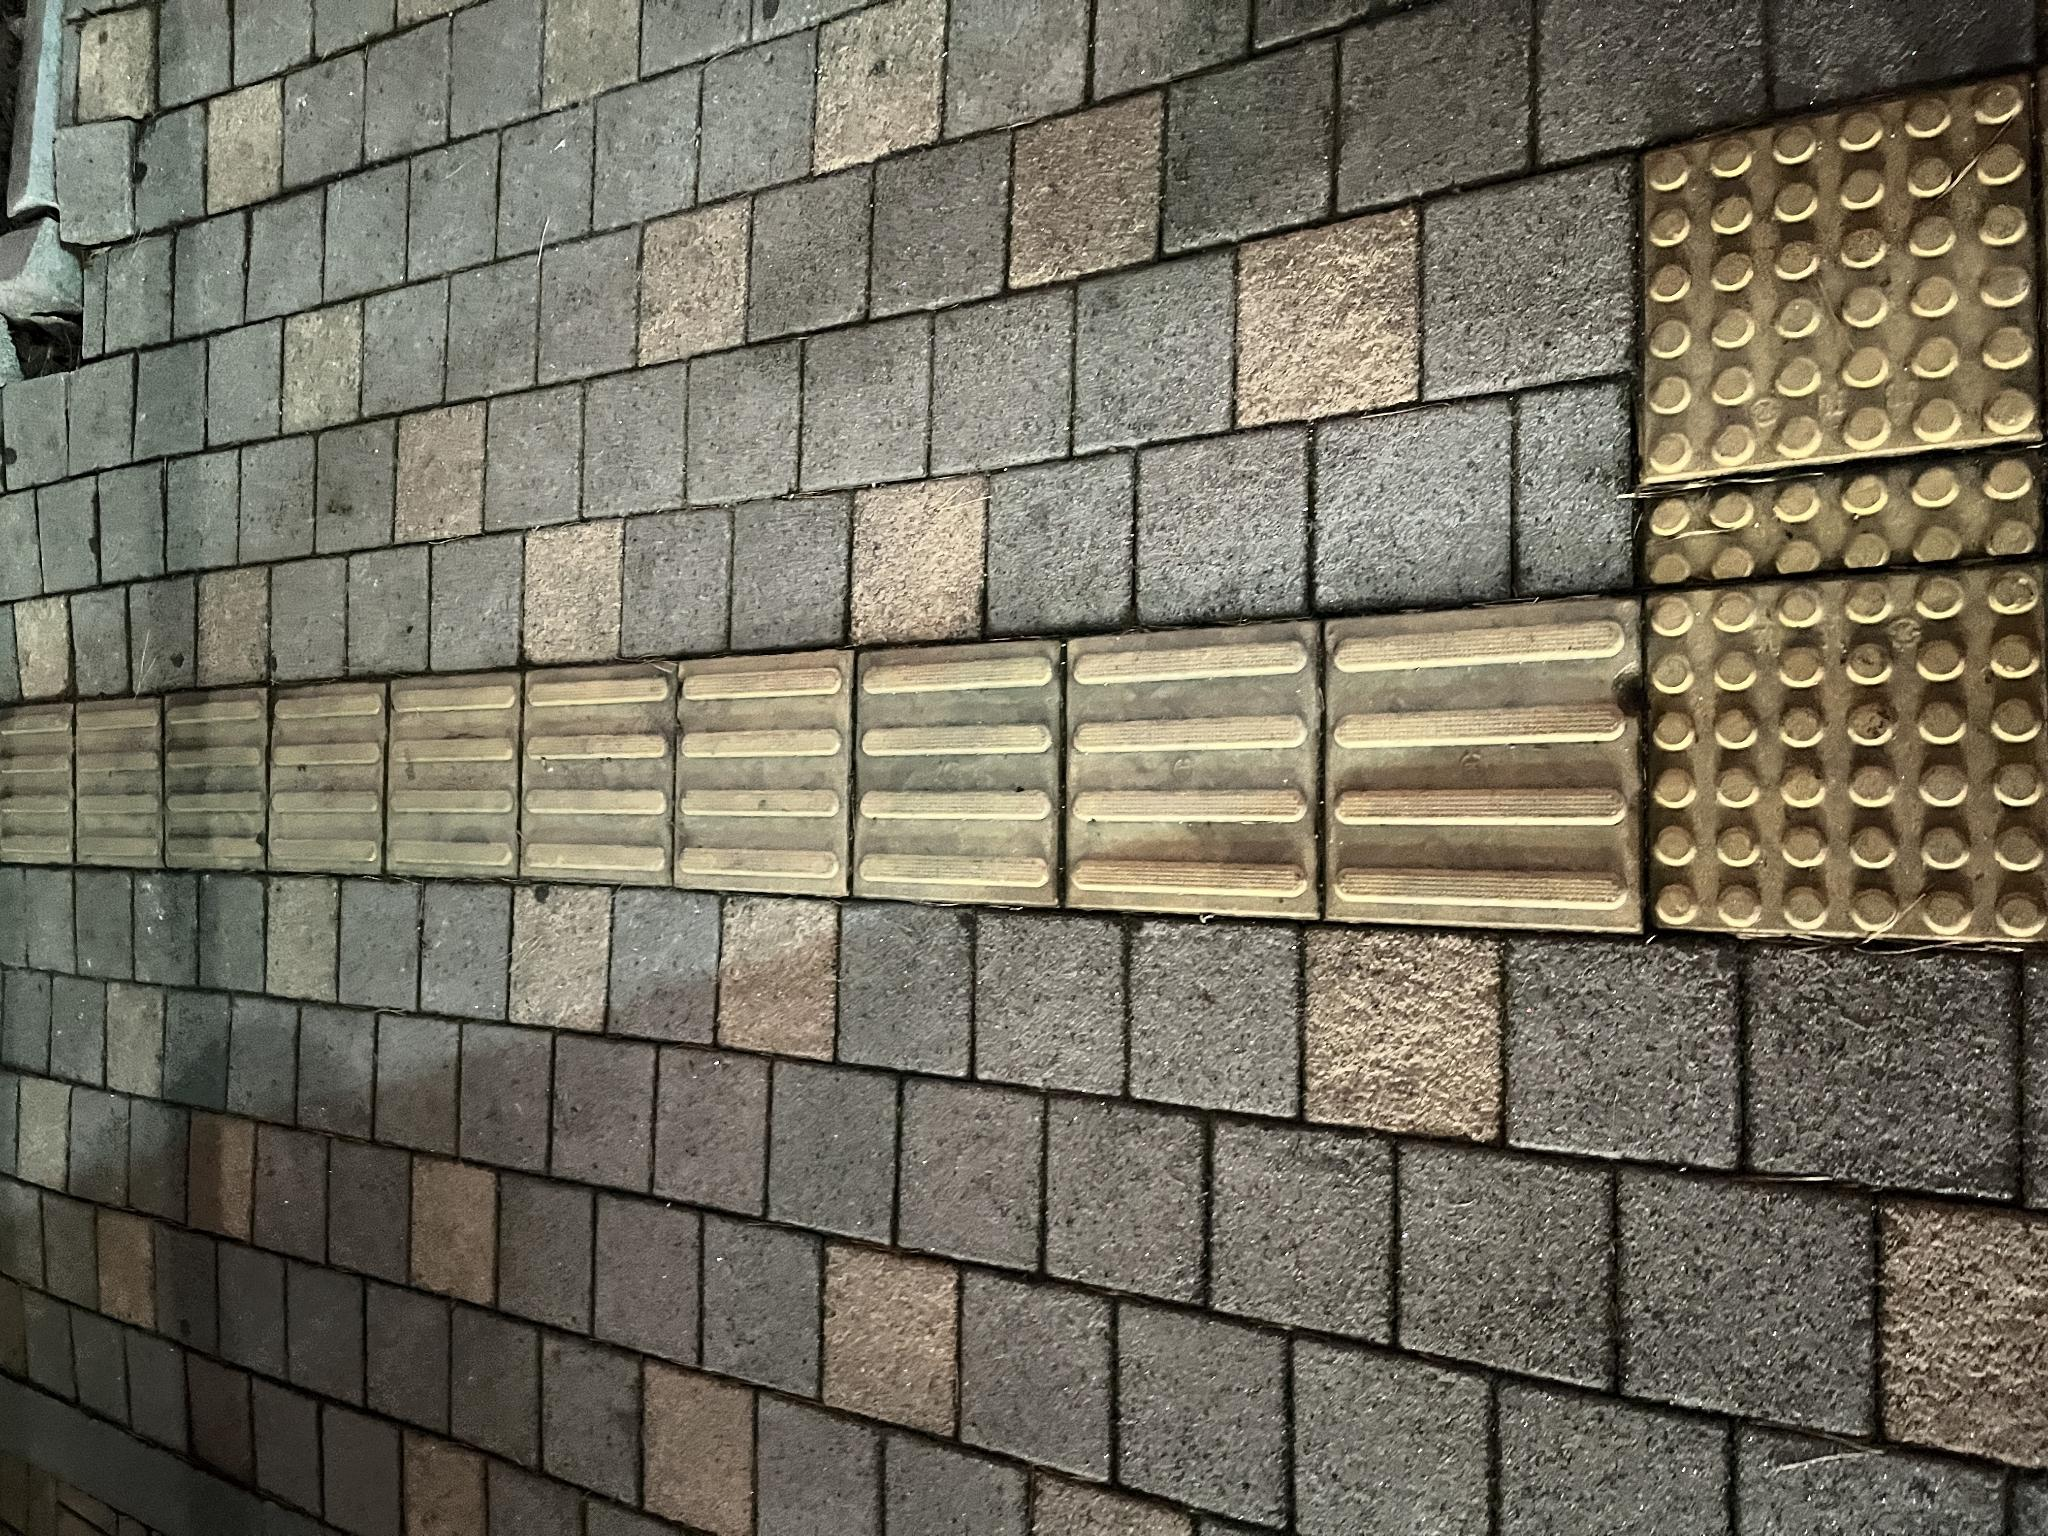Straight block normal: (621, 1066, 913, 1315), (611, 1328, 927, 1536), (632, 855, 895, 1057), (643, 674, 885, 849), (651, 521, 872, 673), (660, 389, 866, 520)
